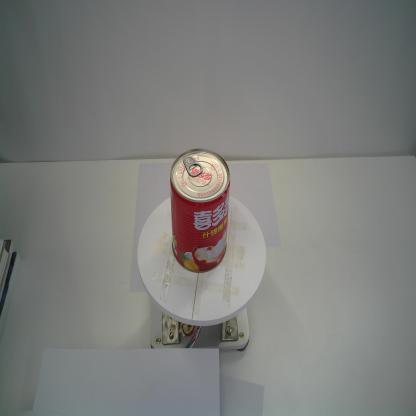Canned Food: (166, 147, 232, 274)
